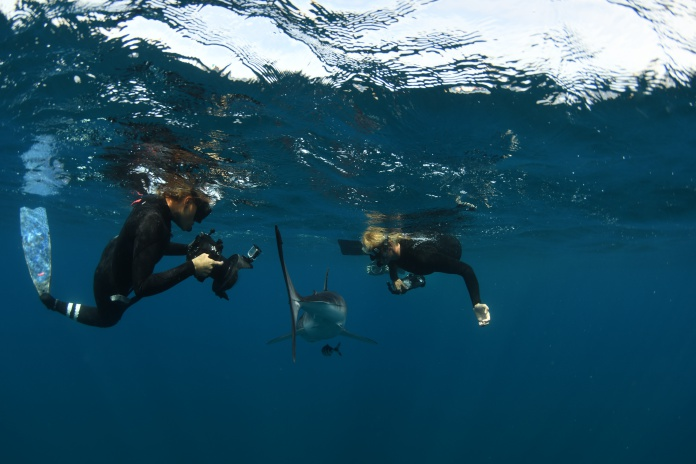Mako: (255, 221, 384, 366)
